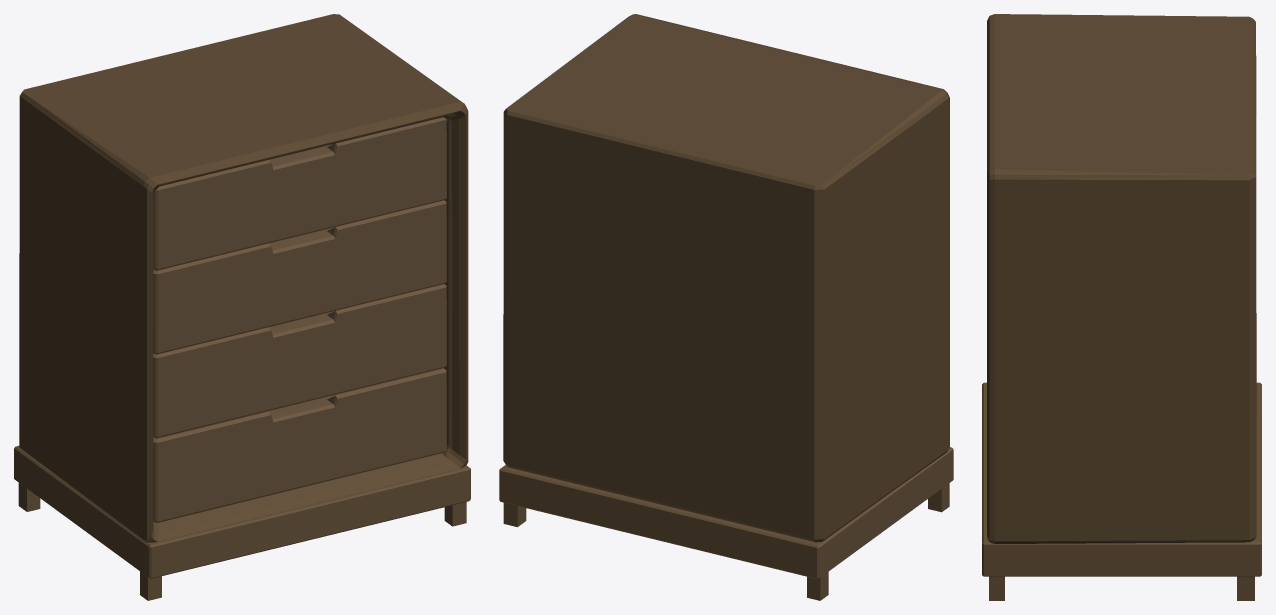
Rendered from Drawer.fbx.
The picture shows the model from 3 angles, left to right: view 1: azimuth 30°, elevation 25°; view 2: azimuth 150°, elevation 25°; view 3: azimuth 270°, elevation 25°; orthographic projection. The views are drawn at different scales.
Visible parts, largest first — view 1: polySurface1; view 2: polySurface1; view 3: polySurface1.
Part boxes in pixels (box(x1,y1,x2,y2)): polySurface1: box(14, 14, 470, 600); polySurface1: box(499, 14, 953, 600); polySurface1: box(982, 14, 1261, 600).
Bounding box in the file's own units: 10.06 × 12.47 × 7.36.
